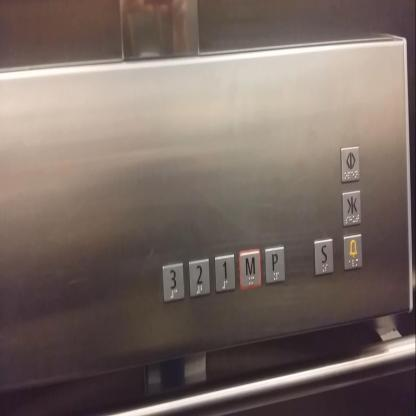1: (213, 253, 236, 293)
2: (188, 256, 210, 298)
3: (162, 260, 186, 301)
M: (238, 248, 262, 290)
P: (264, 244, 286, 285)
S: (312, 237, 334, 275)
alarm: (343, 232, 362, 270)
close: (342, 189, 362, 228)
open: (340, 146, 360, 184)
